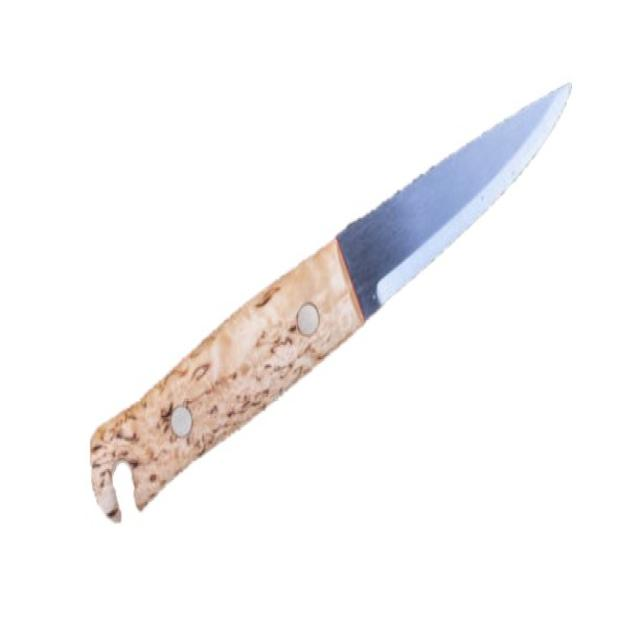knife: (87, 82, 578, 536)
